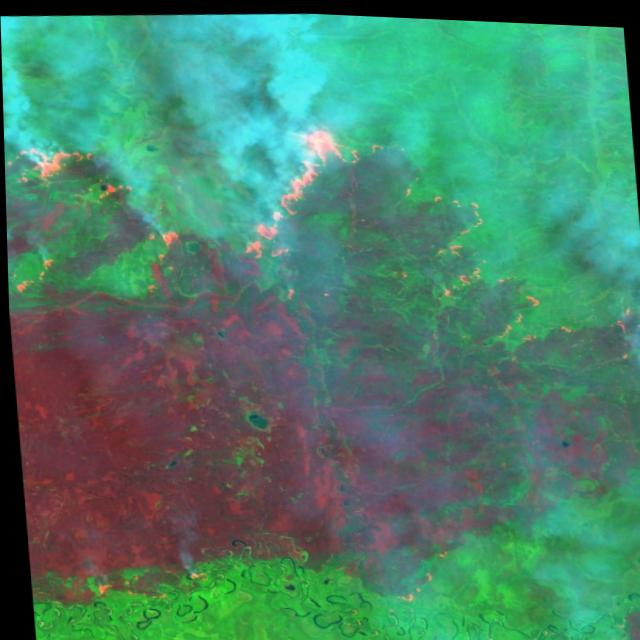fire: (3, 130, 196, 317), (220, 116, 402, 273)
